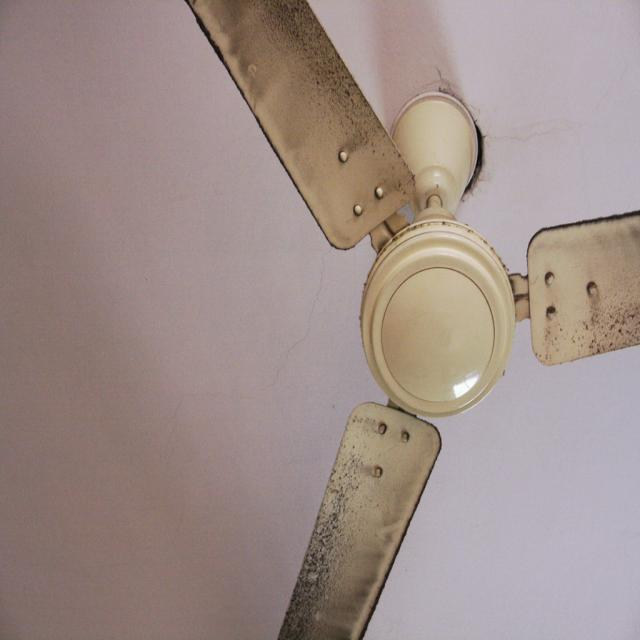fan_off: (174, 0, 640, 640)
